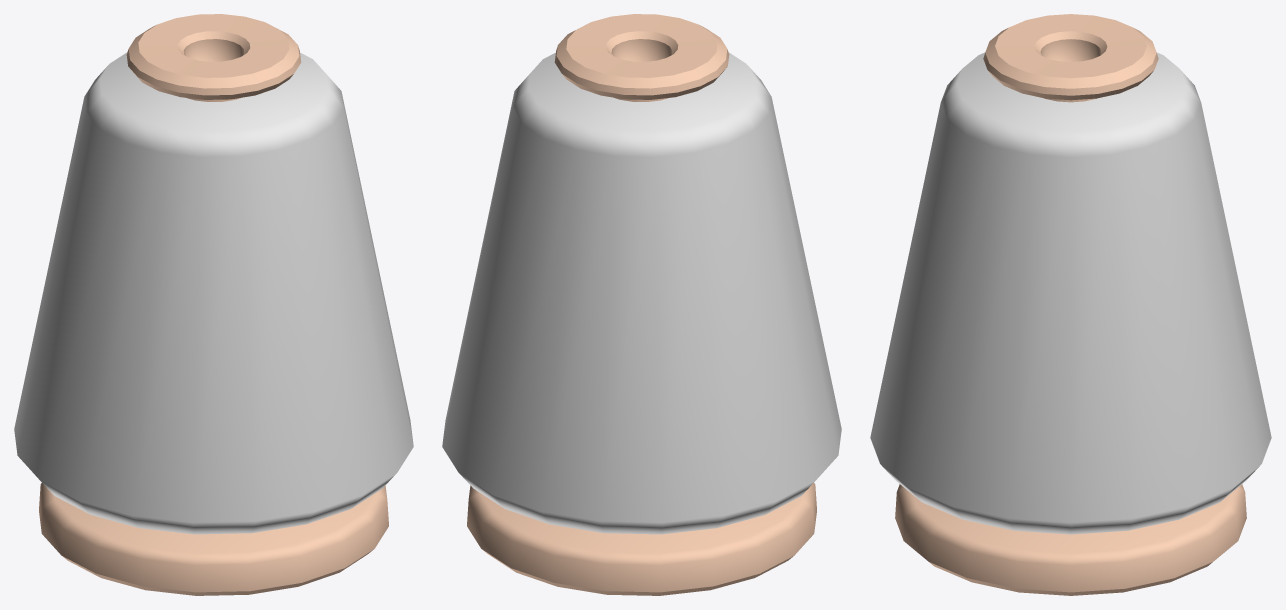
The model's file is bobbinWthread.fbx.
3 views of the same model, side by side, from view 1: azimuth 30°, elevation 25°; view 2: azimuth 150°, elevation 25°; view 3: azimuth 270°, elevation 25° (orthographic).
Visible parts, largest first — view 1: Bobbin_with_tread; view 2: Bobbin_with_tread; view 3: Bobbin_with_tread.
Boxes of the visible parts, left/top/right/bottom form: Bobbin_with_tread: left=14, top=14, right=413, bottom=595; Bobbin_with_tread: left=442, top=14, right=841, bottom=595; Bobbin_with_tread: left=870, top=14, right=1271, bottom=595.
Bounding box in the file's own units: 12.77 × 16.79 × 12.77.
